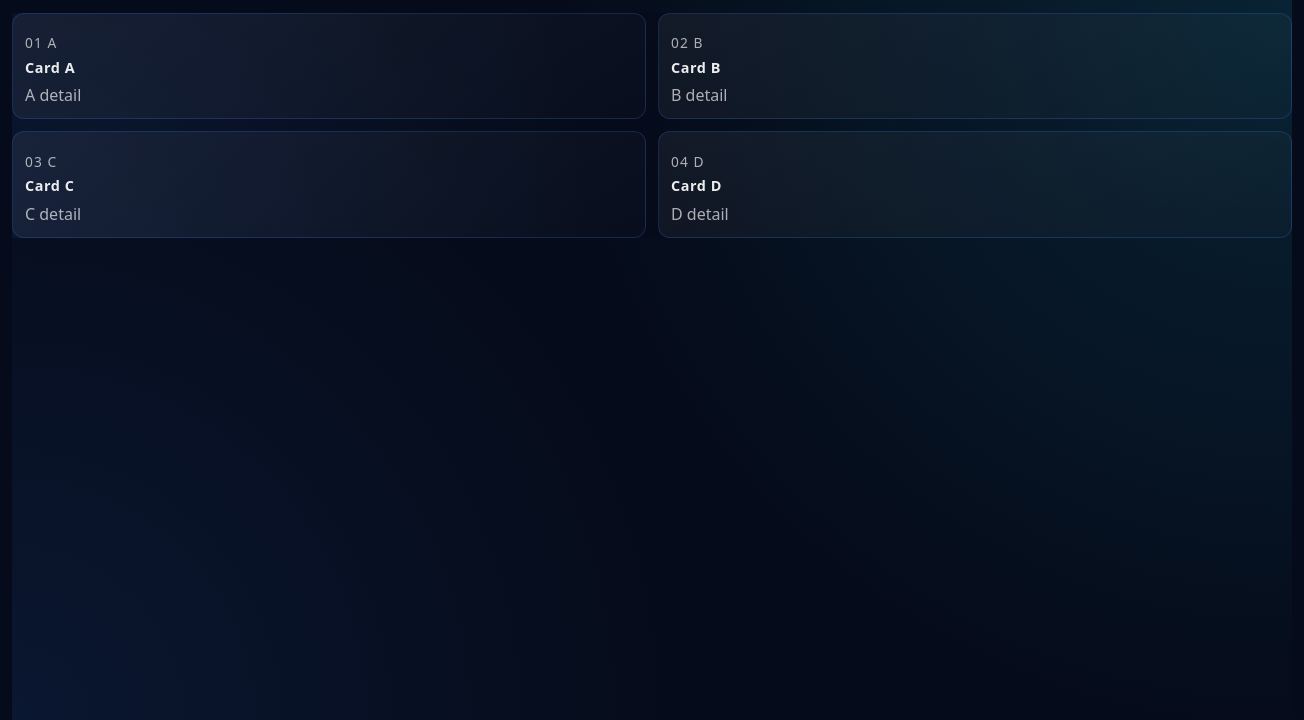
Scenario: CardExpandGrid › opens on click, switches active card, and collapses same card on second click
This screenshot has width=1304, height=720.
Step 1. Click the button "01 A Card A A detail" → x=41, y=42, box top-left (12, 13), bottom-right (646, 119)
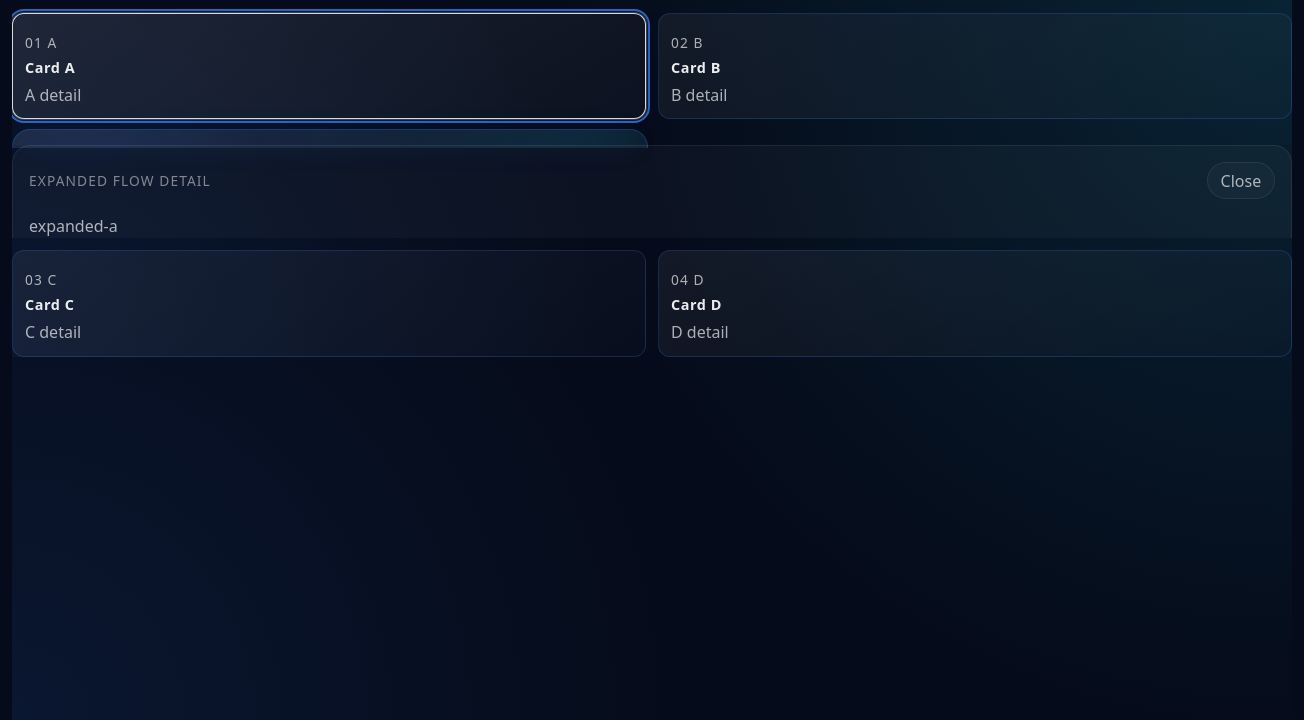
Expected: the button "01 A Card A A detail" is expanded, top-left (12, 13), bottom-right (646, 119)
Expected: the text "expanded-a" is shown, top-left (29, 216), bottom-right (118, 238)
Step 2. Click the button "03 C Card C C detail" → x=41, y=280, box top-left (12, 250), bottom-right (646, 357)
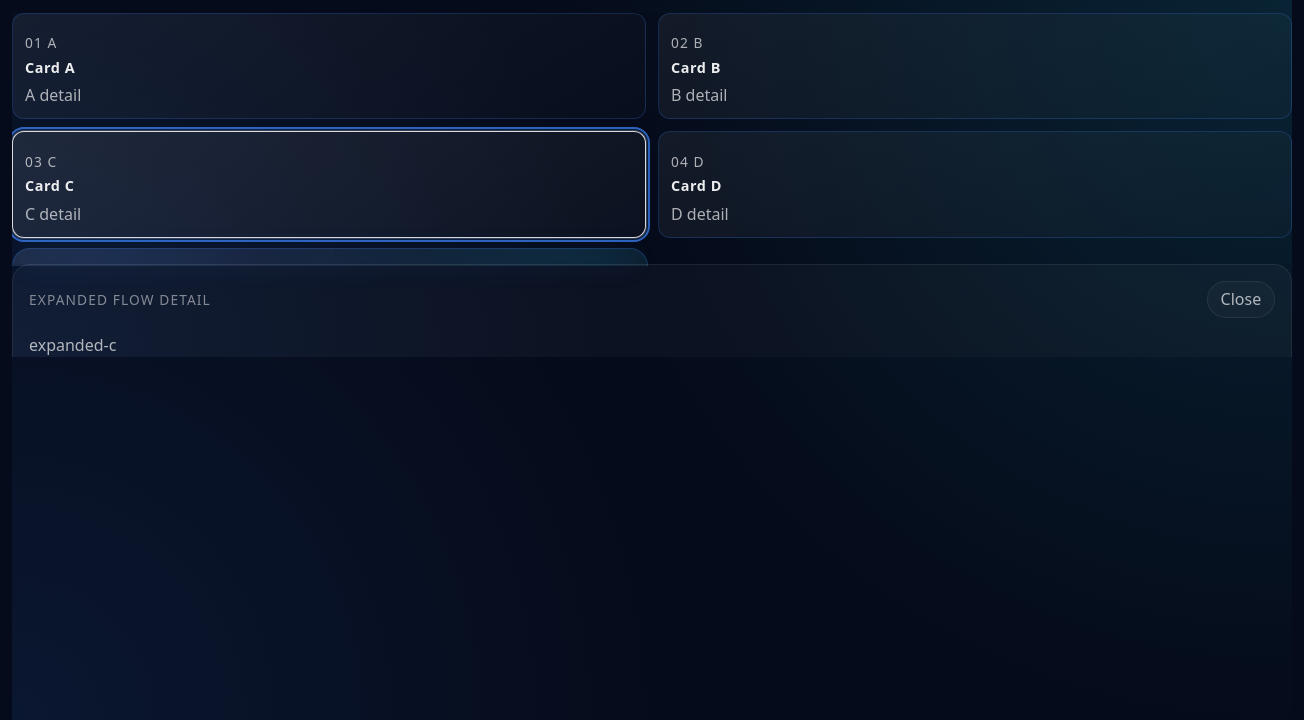
Expected: the button "01 A Card A A detail" is collapsed, top-left (12, 13), bottom-right (646, 119)
Expected: the button "03 C Card C C detail" is expanded
Expected: the text "expanded-c" is shown, top-left (29, 334), bottom-right (116, 356)
Step 3. Click the button "03 C Card C C detail" → x=41, y=161, box top-left (12, 131), bottom-right (646, 238)
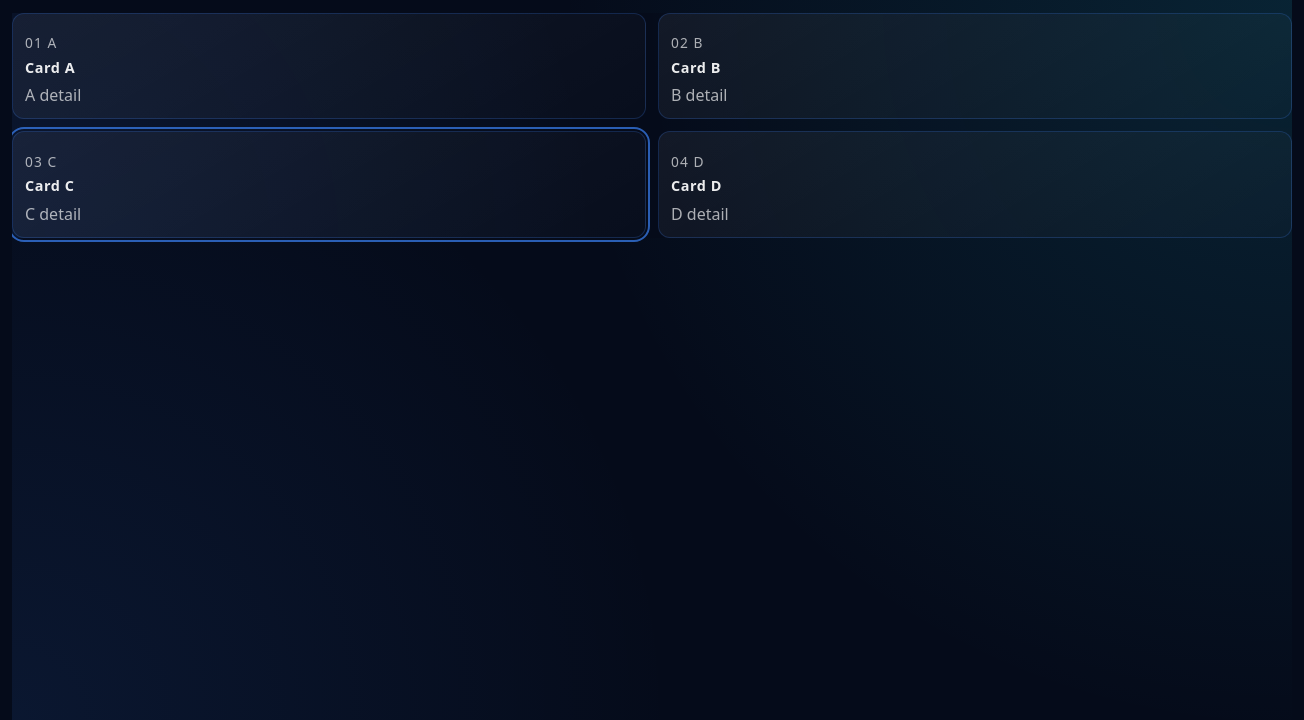
Expected: the text "expanded-c" is gone
Expected: the button "03 C Card C C detail" is collapsed, top-left (12, 131), bottom-right (646, 238)
